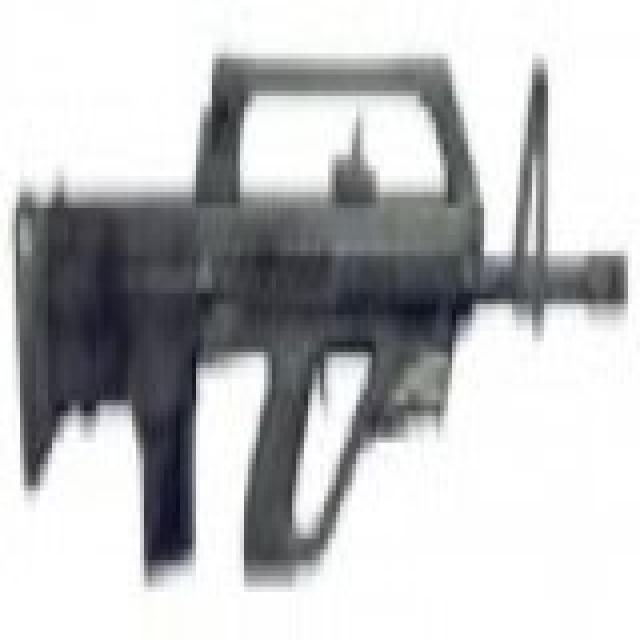Gun: (0, 0, 633, 590)
